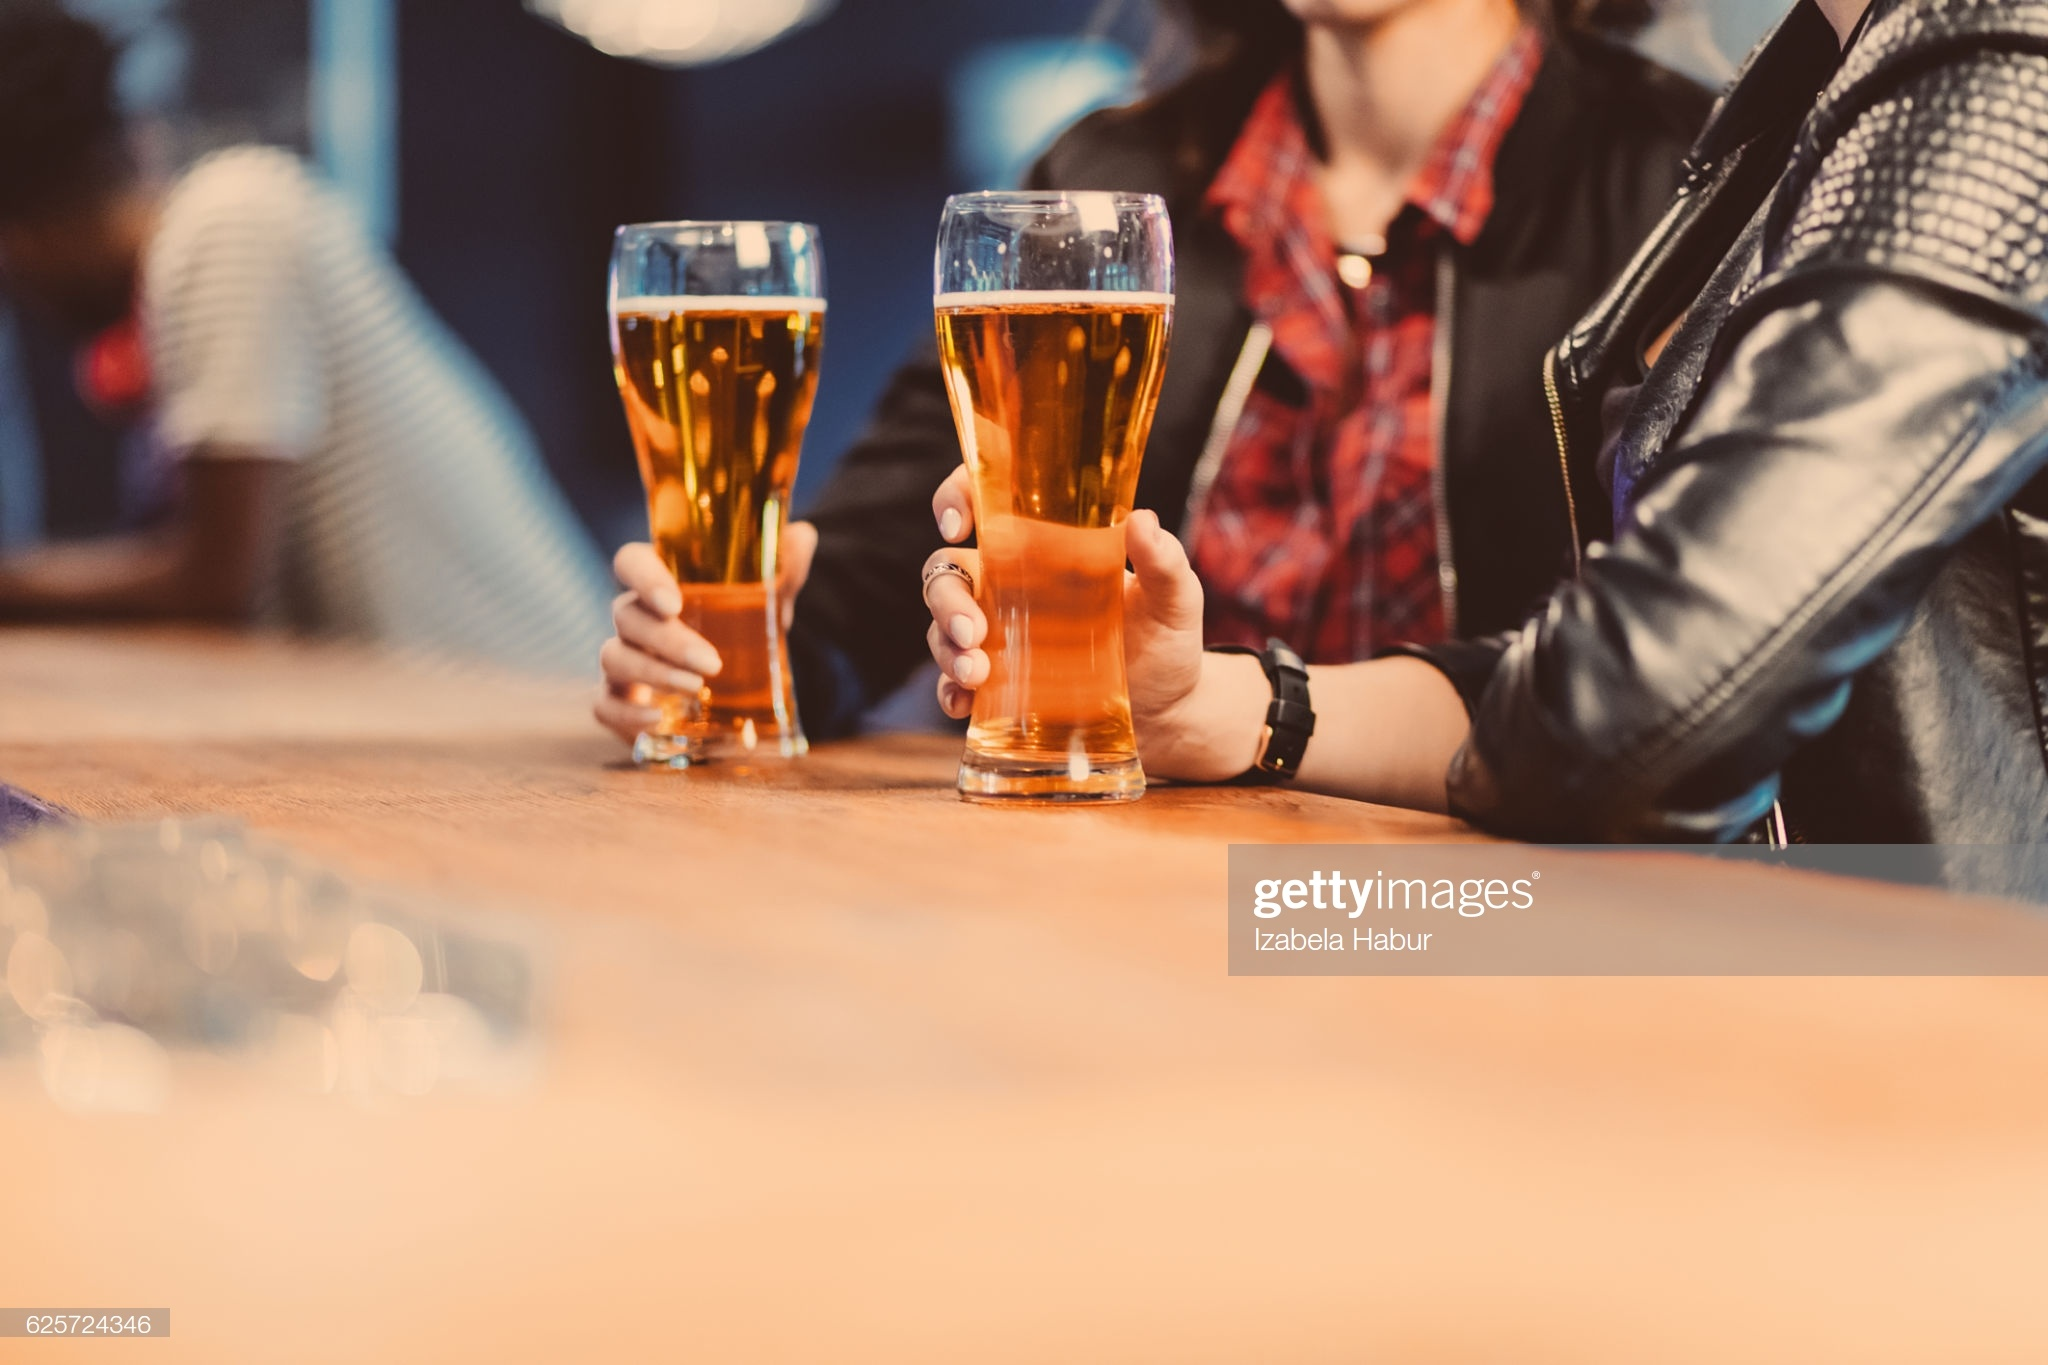glassBeer: (918, 184, 1176, 800), (589, 212, 841, 768)
